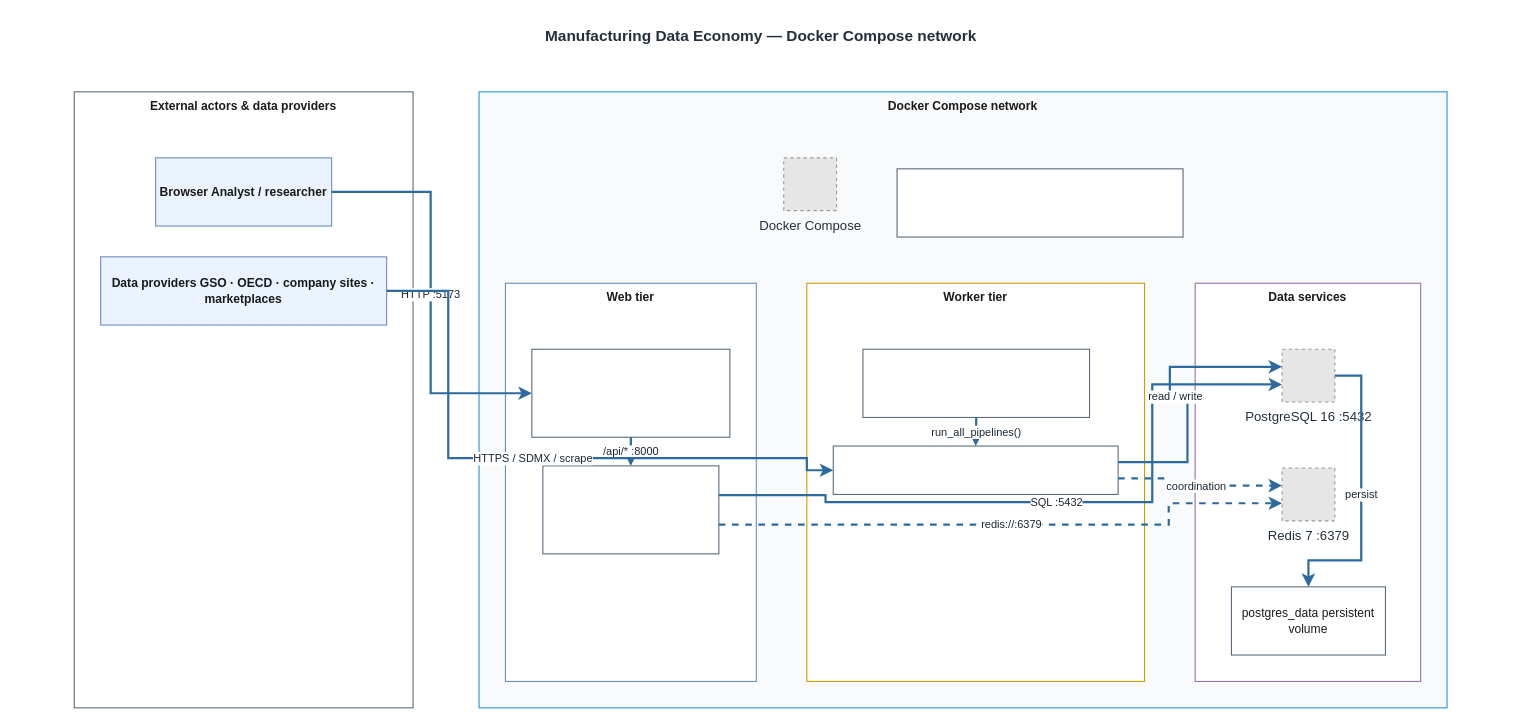
This 1520x727 diagram has some shape labels left out. Grey dashed boxes stand in for pictures. The centre of each missing label's shape, as x and y in pixels:
backend FastAPI + SQLAlchemy :8000: [630,509]
Bind mounts backend · crawlers · pipeline · ml · data: [1039,202]
Crawlers · cleaning · features · ML: [975,469]
frontend React + Vite + Recharts :5173: [630,392]
worker schedule loop · daily 02:00: [976,382]
